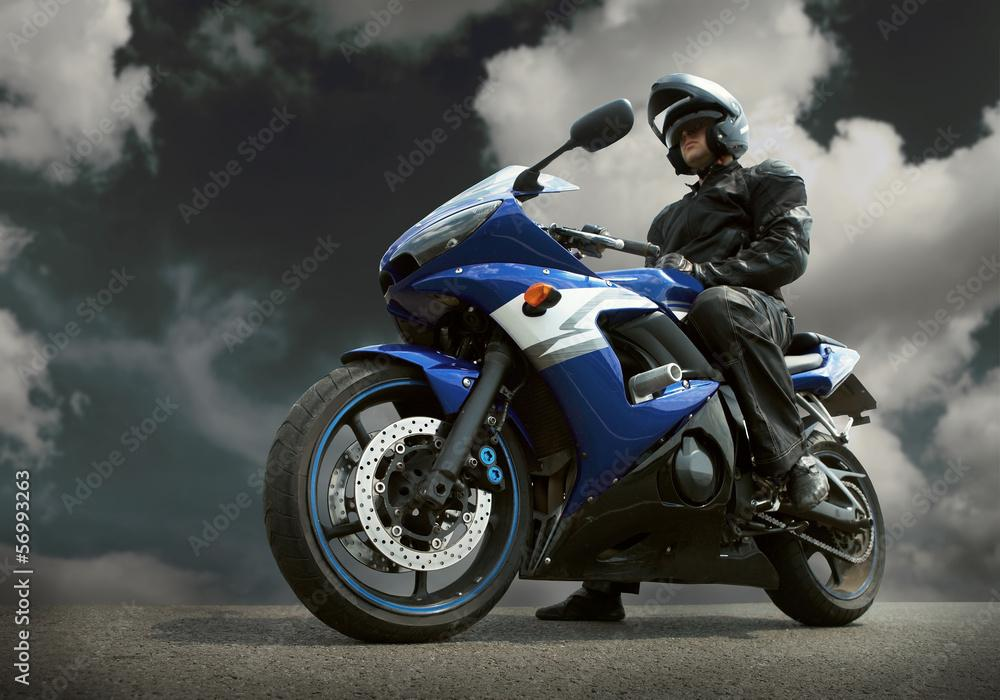helmet: (646, 72, 750, 180)
